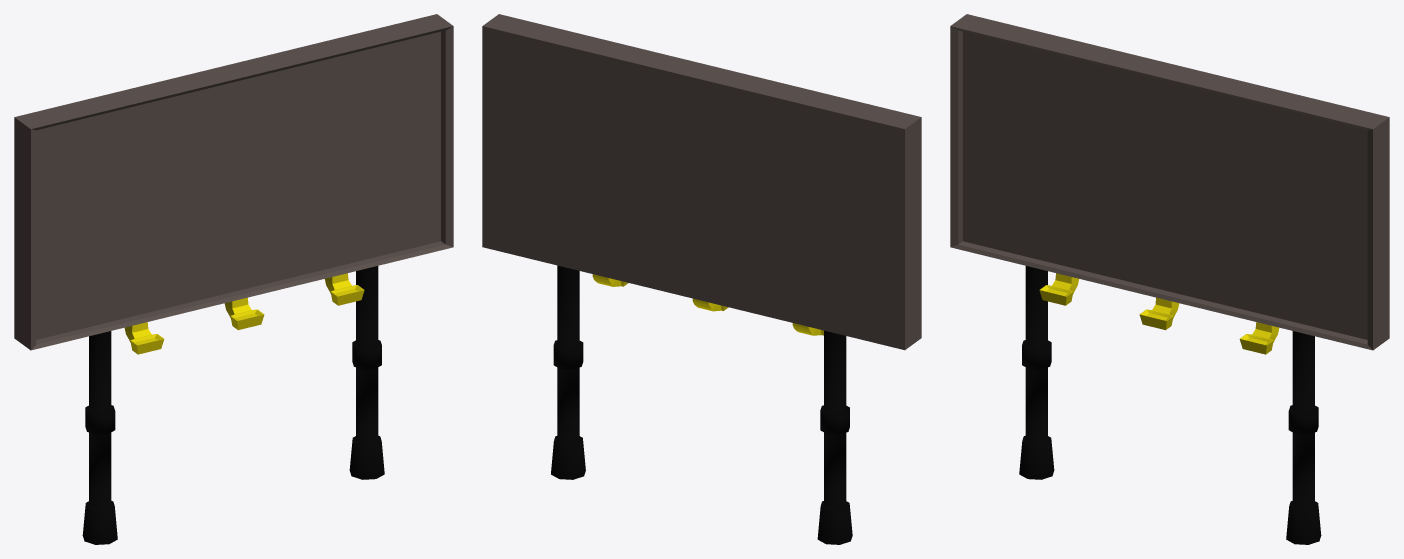
Rendered from Billboard_big.fbx.
3 views of the same model, side by side, from view 1: azimuth 30°, elevation 25°; view 2: azimuth 150°, elevation 25°; view 3: azimuth 330°, elevation 25° (orthographic).
Visible parts, largest first — view 1: Pantalla, Columna A, Columna B, Foco A, Foco B, Foco C; view 2: Pantalla, Columna B, Columna A; view 3: Pantalla, Columna B, Columna A, Foco A, Foco C, Foco B.
Part boxes in pixels (bbox=[...]): Pantalla: bbox=[14, 14, 453, 350]; Columna A: bbox=[82, 331, 117, 544]; Columna B: bbox=[349, 266, 384, 479]; Foco A: bbox=[224, 297, 264, 330]; Foco B: bbox=[124, 322, 164, 354]; Foco C: bbox=[325, 273, 364, 305]; Pantalla: bbox=[482, 14, 921, 350]; Columna B: bbox=[551, 265, 585, 479]; Columna A: bbox=[817, 330, 852, 544]; Pantalla: bbox=[950, 14, 1389, 350]; Columna B: bbox=[1286, 331, 1321, 544]; Columna A: bbox=[1019, 266, 1054, 479]; Foco A: bbox=[1139, 297, 1179, 330]; Foco C: bbox=[1239, 322, 1279, 354]; Foco B: bbox=[1039, 273, 1078, 305].
Bounding box in the file's own units: 1267 × 1242 × 136.
